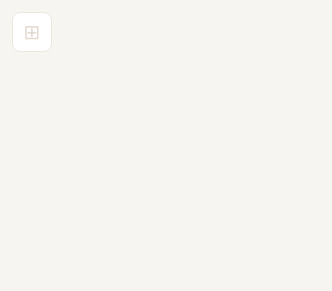
Test: IconPickerInline › opens, reports the picked icon and closes
The width and height of the screenshot is (332, 291).
What coordinates should you click on to do the following:
click the button named "categories.chooseIcon"
I would click on:
 (32, 32)
Its box is [12, 12, 52, 52].
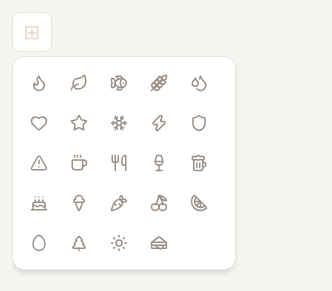
What coordinates should you click on to do the following:
click the button titled "Flame"
I would click on:
 (39, 83)
Its box is [21, 65, 57, 101].
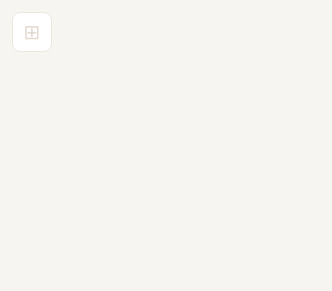
Expected: the button titled "Flame" is gone
